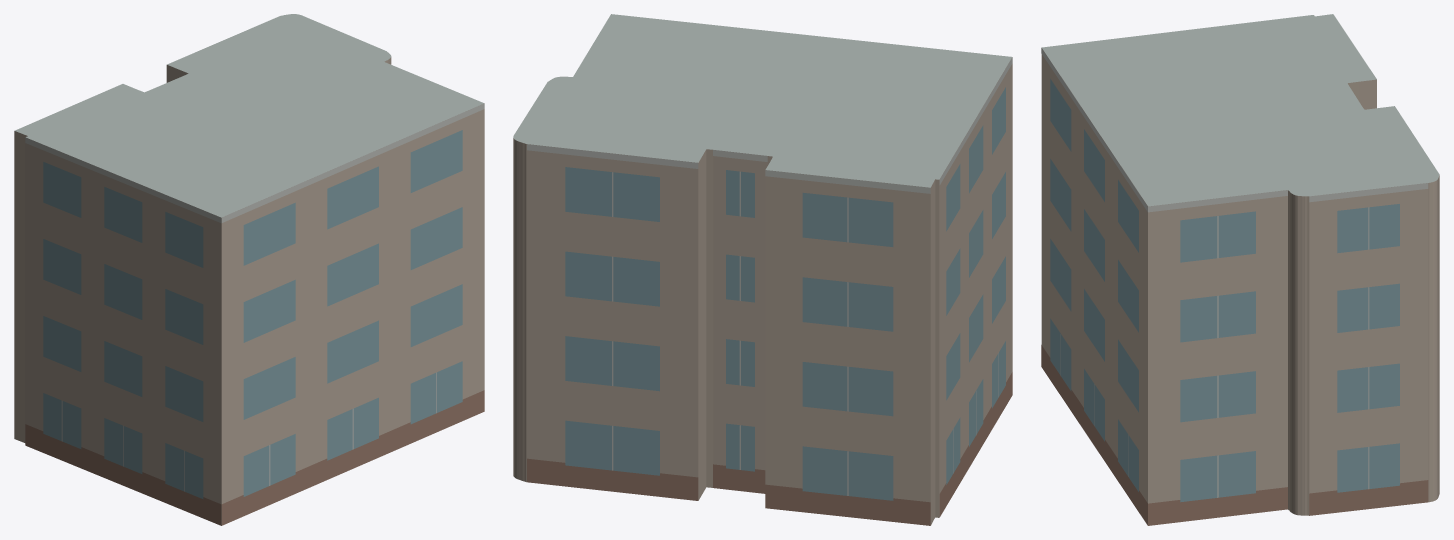
Rendered from survey-upis-32661492.glb.
3 renders of one model, left to right at view 1: azimuth 30°, elevation 25°; view 2: azimuth 150°, elevation 25°; view 3: azimuth 270°, elevation 25°, orthographic. The views are drawn at different scales.
Parts seen in each view (by area): view 1: survey-upis-32661492.tmp; view 2: survey-upis-32661492.tmp; view 3: survey-upis-32661492.tmp.
Part boxes in pixels (x1=…): survey-upis-32661492.tmp: x1=14, y1=14, x2=484, y2=525; survey-upis-32661492.tmp: x1=513, y1=14, x2=1012, y2=525; survey-upis-32661492.tmp: x1=1041, y1=14, x2=1439, y2=525.
Size of the model in its own units: 17.07 by 13.2 by 14.92.
